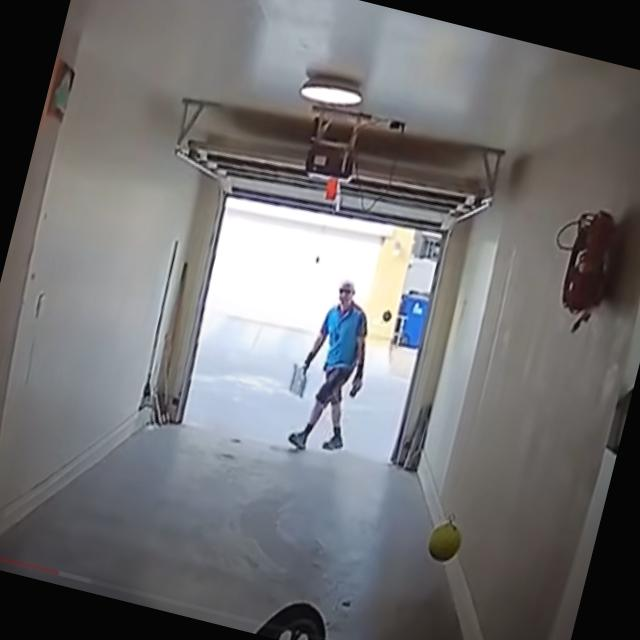person: (280, 273, 386, 460)
